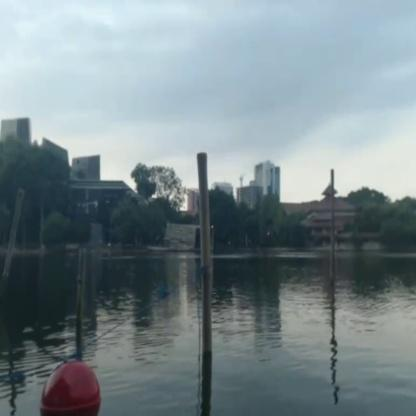red_buoy: (41, 363, 103, 415)
